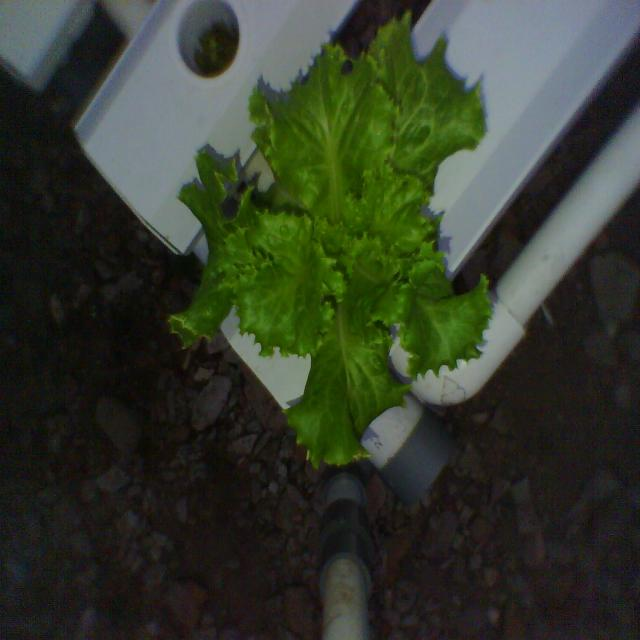FN: (158, 0, 502, 482)
